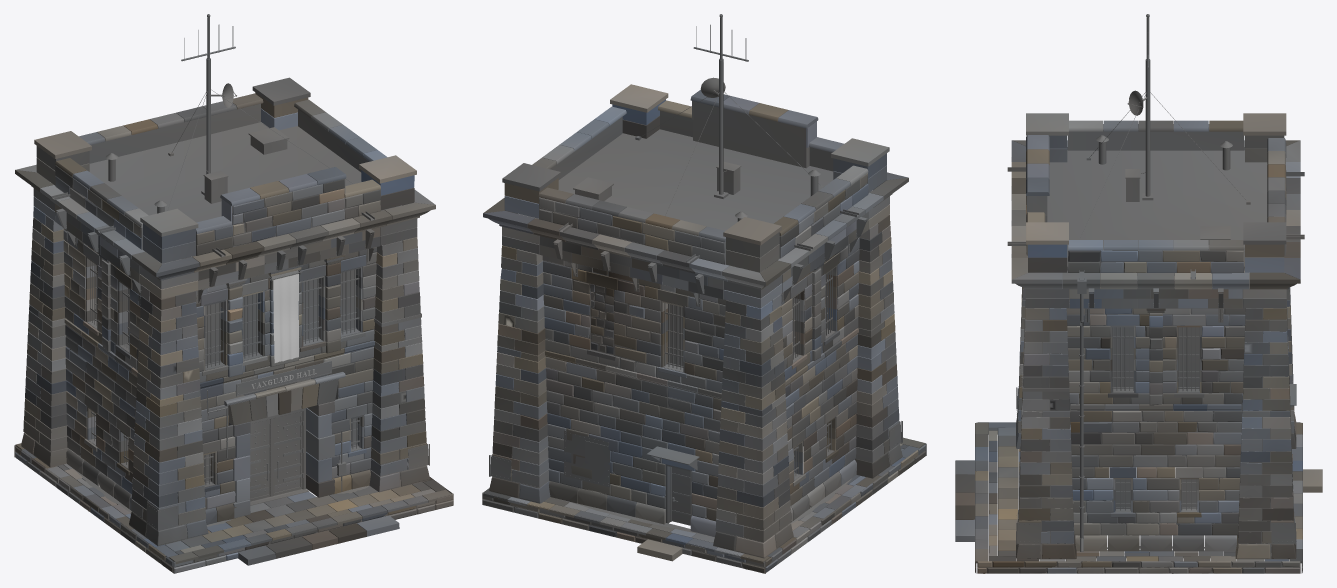
Rendered from VanguardHall_LOD0.glb.
3 renders of one model, left to right at view 1: azimuth 30°, elevation 25°; view 2: azimuth 150°, elevation 25°; view 3: azimuth 270°, elevation 25°, orthographic. The views are drawn at different scales.
Parts seen in each view (by area): view 1: VH_Masonry_LOD0, VH_Trim_LOD0, VH_Podium_LOD0, VH_Roof_LOD0, VH_Metal_LOD0, VH_Glass_LOD0, VH_Banner_LOD0, VH_Sand_LOD0; view 2: VH_Masonry_LOD0, VH_Trim_LOD0, VH_Roof_LOD0, VH_Podium_LOD0, VH_Metal_LOD0, VH_Glass_LOD0, VH_Sand_LOD0; view 3: VH_Masonry_LOD0, VH_Trim_LOD0, VH_Roof_LOD0, VH_Podium_LOD0, VH_Metal_LOD0, VH_Glass_LOD0.
Part boxes in pixels (left/top/right/bottom): VH_Masonry_LOD0: left=21, top=77, right=429, bottom=546; VH_Trim_LOD0: left=15, top=93, right=435, bottom=524; VH_Podium_LOD0: left=14, top=443, right=453, bottom=573; VH_Roof_LOD0: left=89, top=14, right=361, bottom=222; VH_Metal_LOD0: left=52, top=192, right=429, bottom=531; VH_Glass_LOD0: left=95, top=250, right=357, bottom=481; VH_Banner_LOD0: left=273, top=274, right=298, bottom=362; VH_Sand_LOD0: left=71, top=320, right=368, bottom=526; VH_Masonry_LOD0: left=489, top=84, right=902, bottom=558; VH_Trim_LOD0: left=483, top=89, right=908, bottom=536; VH_Roof_LOD0: left=558, top=14, right=833, bottom=230; VH_Podium_LOD0: left=482, top=437, right=926, bottom=573; VH_Metal_LOD0: left=489, top=209, right=902, bottom=525; VH_Glass_LOD0: left=668, top=259, right=827, bottom=366; VH_Sand_LOD0: left=561, top=330, right=851, bottom=535; VH_Masonry_LOD0: left=1016, top=113, right=1296, bottom=559; VH_Trim_LOD0: left=1011, top=120, right=1300, bottom=551; VH_Roof_LOD0: left=1047, top=14, right=1267, bottom=268; VH_Podium_LOD0: left=955, top=422, right=1322, bottom=573; VH_Metal_LOD0: left=1007, top=167, right=1304, bottom=551; VH_Glass_LOD0: left=1112, top=327, right=1199, bottom=507.
Size of the model in its own units: 12.45 by 19.23 by 13.34.
